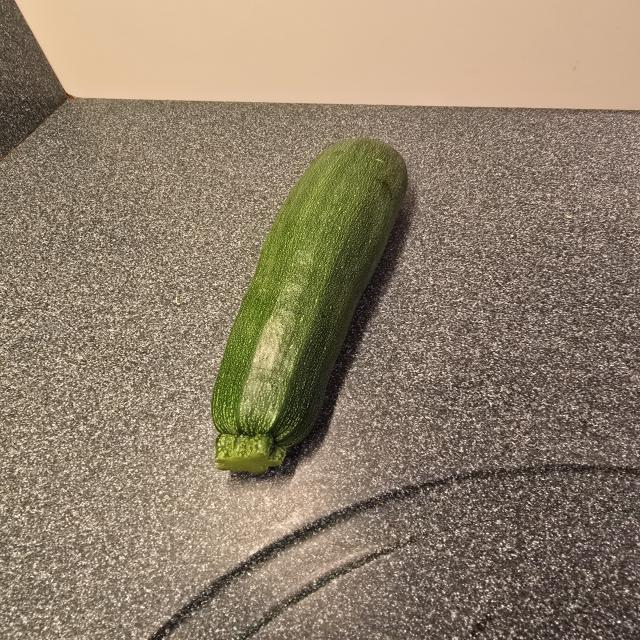Courgette: (211, 139, 407, 472)
